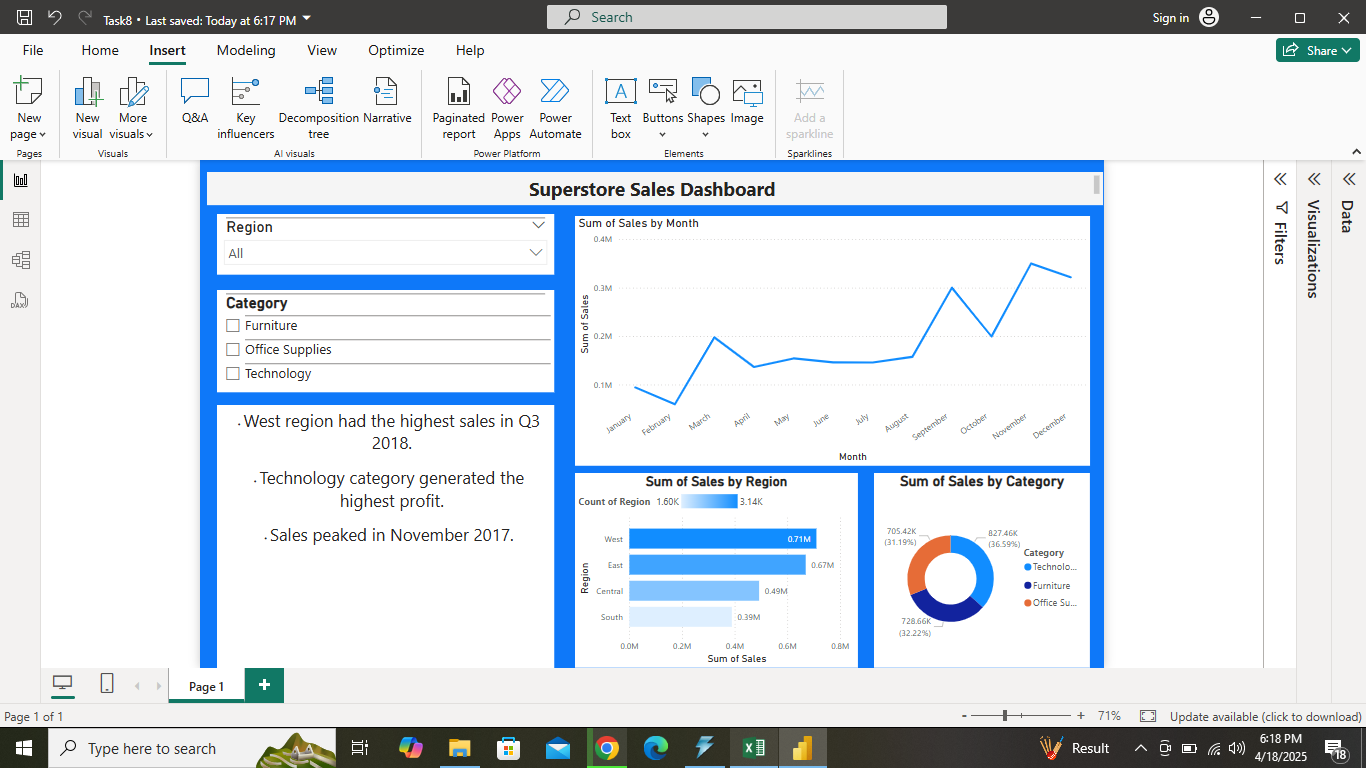

Layout of this report page (visuals, bound fields, positions):
{"tool":"powerbi","page":{"name":"Page 1","canvas":[1280,720],"ordinal":0},"visuals":[{"type":"textbox","box":[9.9,17,1269.9,46.8],"z":0},{"type":"donutChart","fields":{"Category":["superstore_final_dataset (2).Category"],"Y":["superstore_final_dataset (2).Sales"]},"box":[955.3,443.6,306.1,276.4],"z":1000},{"type":"lineChart","fields":{"Category":["superstore_final_dataset (2).Month-Year.Variation.Date Hierarchy.Month"],"Y":["superstore_final_dataset (2).Sales"]},"box":[531.5,79.4,729.9,354.3],"z":2000},{"type":"clusteredBarChart","fields":{"Category":["superstore_final_dataset (2).Region"],"Y":["superstore_final_dataset (2).Sales"]},"box":[531.5,443.6,401.1,276.4],"z":3000},{"type":"slicer","fields":{"Values":["superstore_final_dataset (2).Region"]},"box":[24.1,76.5,477.6,86.5],"z":4000},{"type":"slicer","fields":{"Values":["superstore_final_dataset (2).Category"]},"box":[24.1,184.3,477.6,144.6],"z":5000},{"type":"textbox","box":[24.1,347.2,477.6,372.8],"z":6000}]}

Visuals, with their boxes on the page's 1280x720 design canvas (x1, y1, x2, y2). These are canvas units, not pixel positions in the 1366x768 screenshot, which may show the page scaled, cropped or inside an application window:
textbox: 10 17 1280 64
donutChart - superstore_final_dataset (2).Category x superstore_final_dataset (2).Sales: 955 444 1261 720
lineChart - superstore_final_dataset (2).Month-Year.Variation.Date Hierarchy.Month x superstore_final_dataset (2).Sales: 532 79 1261 434
clusteredBarChart - superstore_final_dataset (2).Region x superstore_final_dataset (2).Sales: 532 444 933 720
slicer - superstore_final_dataset (2).Region: 24 76 502 163
slicer - superstore_final_dataset (2).Category: 24 184 502 329
textbox: 24 347 502 720
